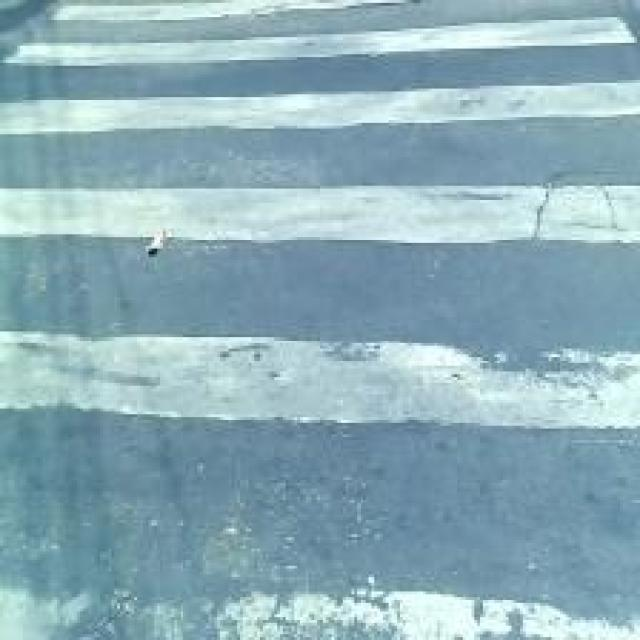walk-crossing: (29, 30, 612, 624)
